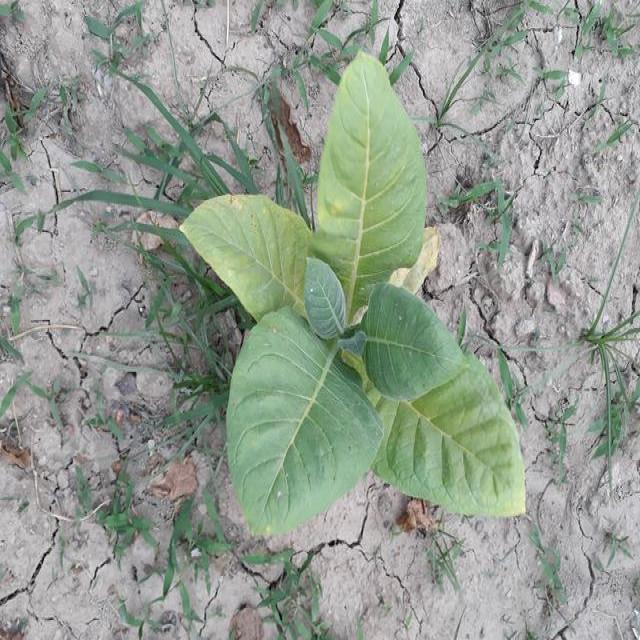crop: (180, 52, 530, 544)
